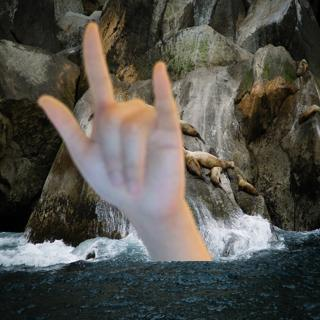ILY: (30, 19, 196, 222)
